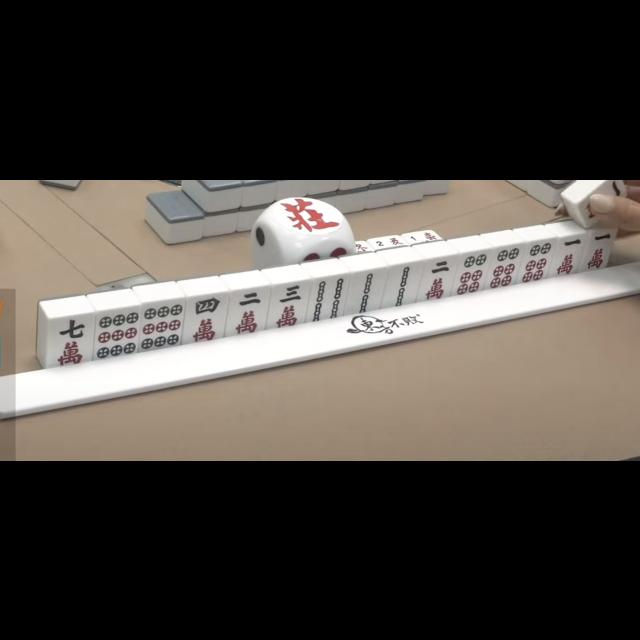b2: (346, 268, 384, 312), (386, 262, 420, 306)
b4: (310, 275, 348, 319)
c1: (582, 228, 614, 270), (552, 234, 584, 276)
c2: (228, 288, 268, 336), (420, 257, 456, 301)
c3: (270, 282, 308, 328)
c4: (184, 294, 226, 342)
c7: (48, 315, 94, 365)
d6: (488, 245, 522, 287), (520, 240, 554, 280), (456, 252, 488, 294)
d9: (95, 310, 138, 358), (140, 301, 183, 349)
s1: (406, 230, 439, 242)
s2: (374, 235, 404, 248)
